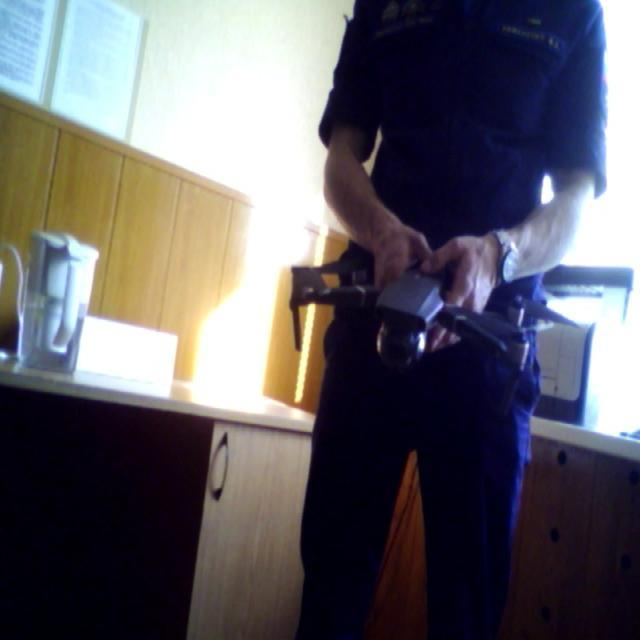drone: (282, 222, 572, 393)
